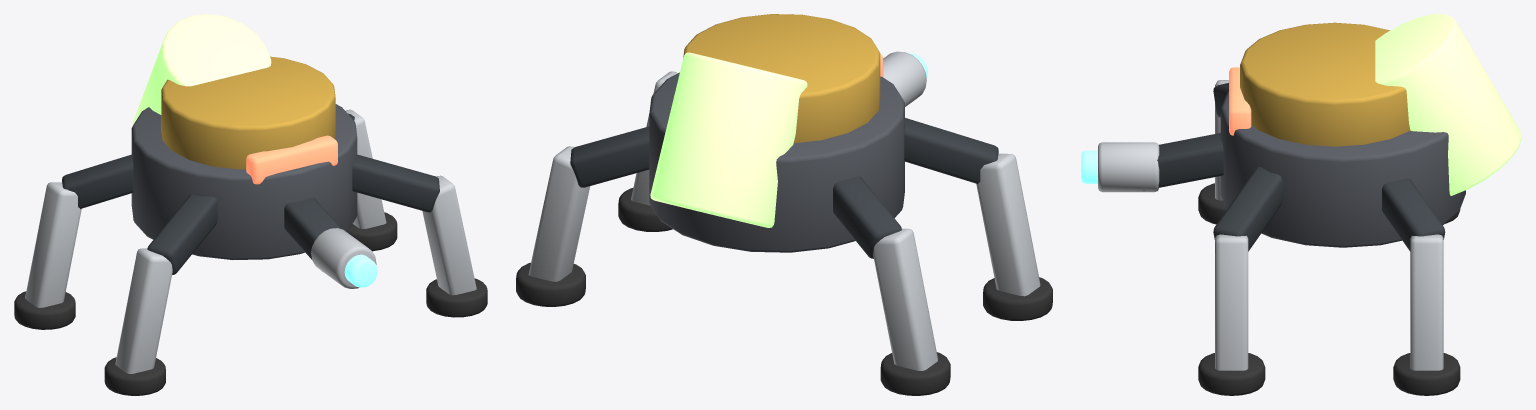
File: enemy_ragno_saldatore.glb
3 views of the same model, side by side, from view 1: azimuth 30°, elevation 25°; view 2: azimuth 150°, elevation 25°; view 3: azimuth 270°, elevation 25° (orthographic). The views are drawn at different scales.
Visible parts, largest first — view 1: SpiderThorax, WelderDome, RepairCanister, LegLower_-1_-1, LegLower_-1_1, LegLower_1_-1, LegUpper_1_-1, LegUpper_-1_-1, LegUpper_-1_1, SpiderVisor, PlasmaNozzle, TorchArm (+6 smaller); view 2: RepairCanister, SpiderThorax, WelderDome, LegLower_-1_1, LegLower_-1_-1, LegLower_1_1, LegUpper_-1_-1, LegUpper_1_1, LegUpper_-1_1, LegFoot_1_1, LegFoot_-1_1, LegFoot_-1_-1 (+3 smaller); view 3: SpiderThorax, WelderDome, RepairCanister, LegLower_1_1, LegLower_1_-1, PlasmaNozzle, LegUpper_1_-1, TorchArm, LegUpper_1_1, LegFoot_1_1, LegFoot_1_-1, SpiderVisor (+2 smaller).
Boxes of the visible parts, x1,y1,x2,y2 form: SpiderThorax: (131,104,357,259); WelderDome: (161,56,335,169); RepairCanister: (132,14,271,125); LegLower_-1_-1: (115,248,172,373); LegLower_-1_1: (25,182,81,307); LegLower_1_-1: (422,175,476,295); LegUpper_1_-1: (352,154,439,212); LegUpper_-1_-1: (147,194,217,274); LegUpper_-1_1: (62,154,133,208); SpiderVisor: (246,135,337,184); PlasmaNozzle: (311,228,376,288); TorchArm: (284,197,341,271); RepairCanister: (650,52,807,227); SpiderThorax: (649,72,904,252); WelderDome: (683,14,880,143); LegLower_-1_1: (873,228,937,370); LegLower_-1_-1: (976,153,1040,296); LegLower_1_1: (528,146,590,281); LegUpper_-1_-1: (904,118,998,183); LegUpper_1_1: (570,126,649,187); LegUpper_-1_1: (833,176,901,258); LegFoot_1_1: (516,262,585,306); LegFoot_-1_1: (880,352,950,395); LegFoot_-1_-1: (983,277,1052,320); SpiderThorax: (1220,91,1465,247); WelderDome: (1240,22,1410,146); RepairCanister: (1375,14,1521,195); LegLower_1_1: (1410,234,1443,370); LegLower_1_-1: (1215,234,1248,370); PlasmaNozzle: (1098,142,1159,192); LegUpper_1_-1: (1213,166,1282,251); TorchArm: (1143,133,1223,190); LegUpper_1_1: (1382,178,1445,251); LegFoot_1_1: (1393,353,1460,395); LegFoot_1_-1: (1198,353,1265,395); SpiderVisor: (1229,67,1251,135).
Bounding box in the file's own units: 1.68 × 1.09 × 1.58.
